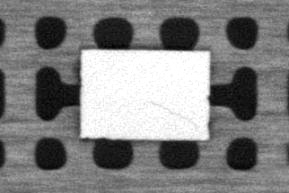DIE_CRACK: (149, 103, 200, 129)
